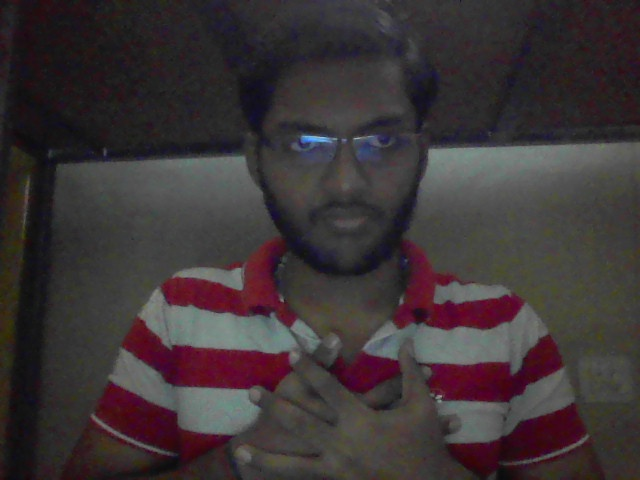Yes_Hungry: (215, 313, 493, 480)
